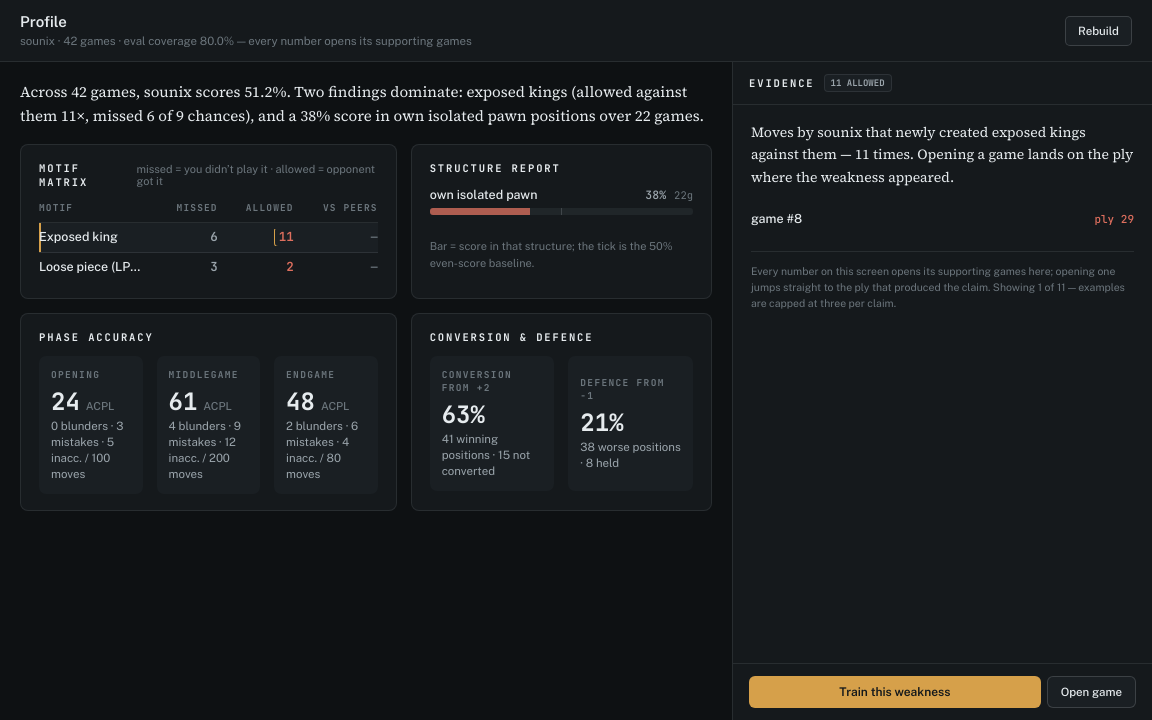
it: Profile — every number is a control › clicking a motif cell selects that exact cell's claim
The width and height of the screenshot is (1152, 720).
// The Undefended row's missed cell shows "3".
Click the button "3" at (214, 267), box [205,257,223,277]
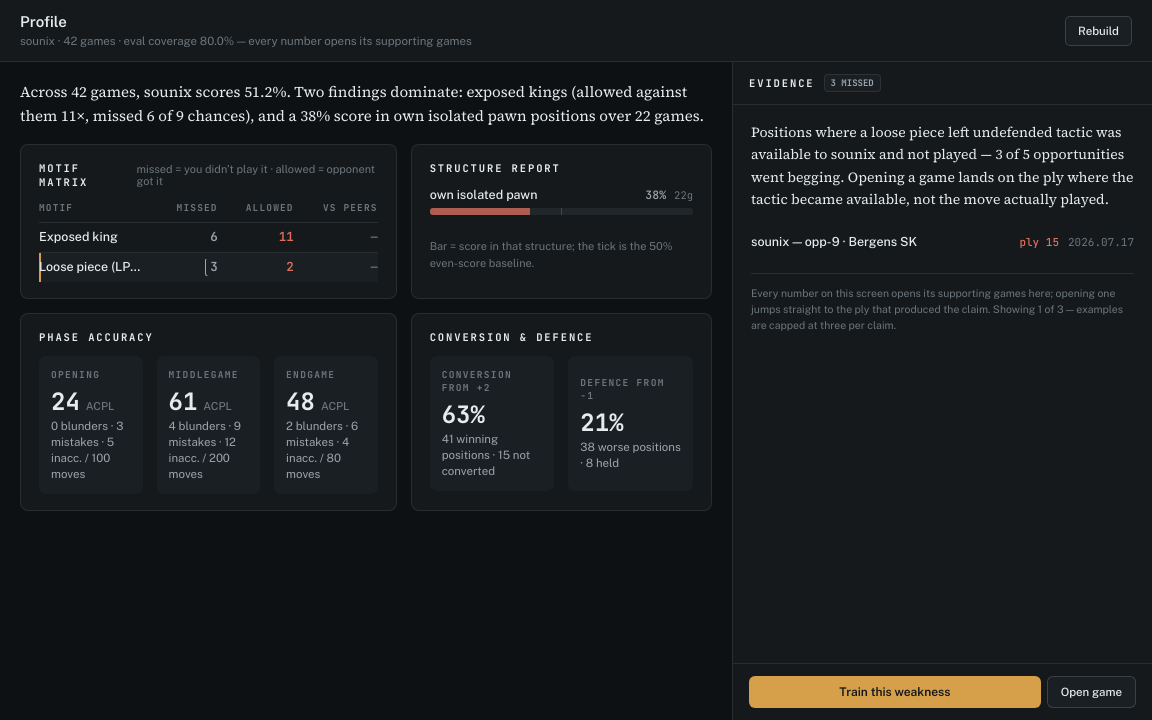
Expected: the text "3 MISSED" is shown, [824,74,881,92]
